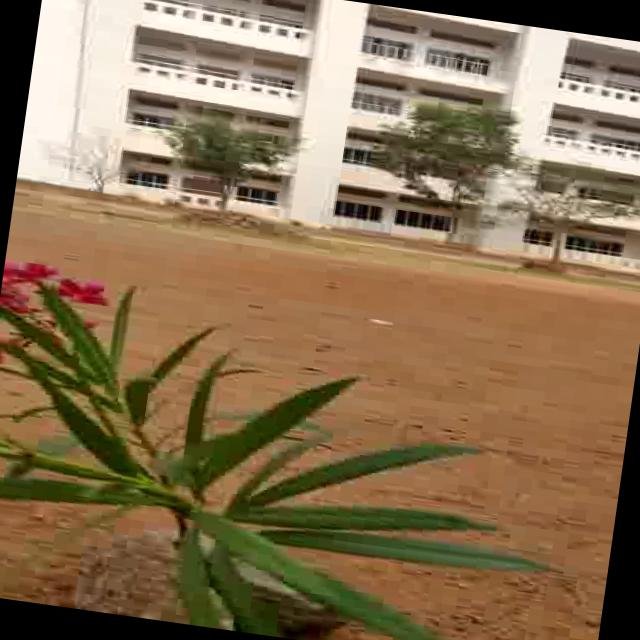Oleander: (0, 275, 553, 640)
